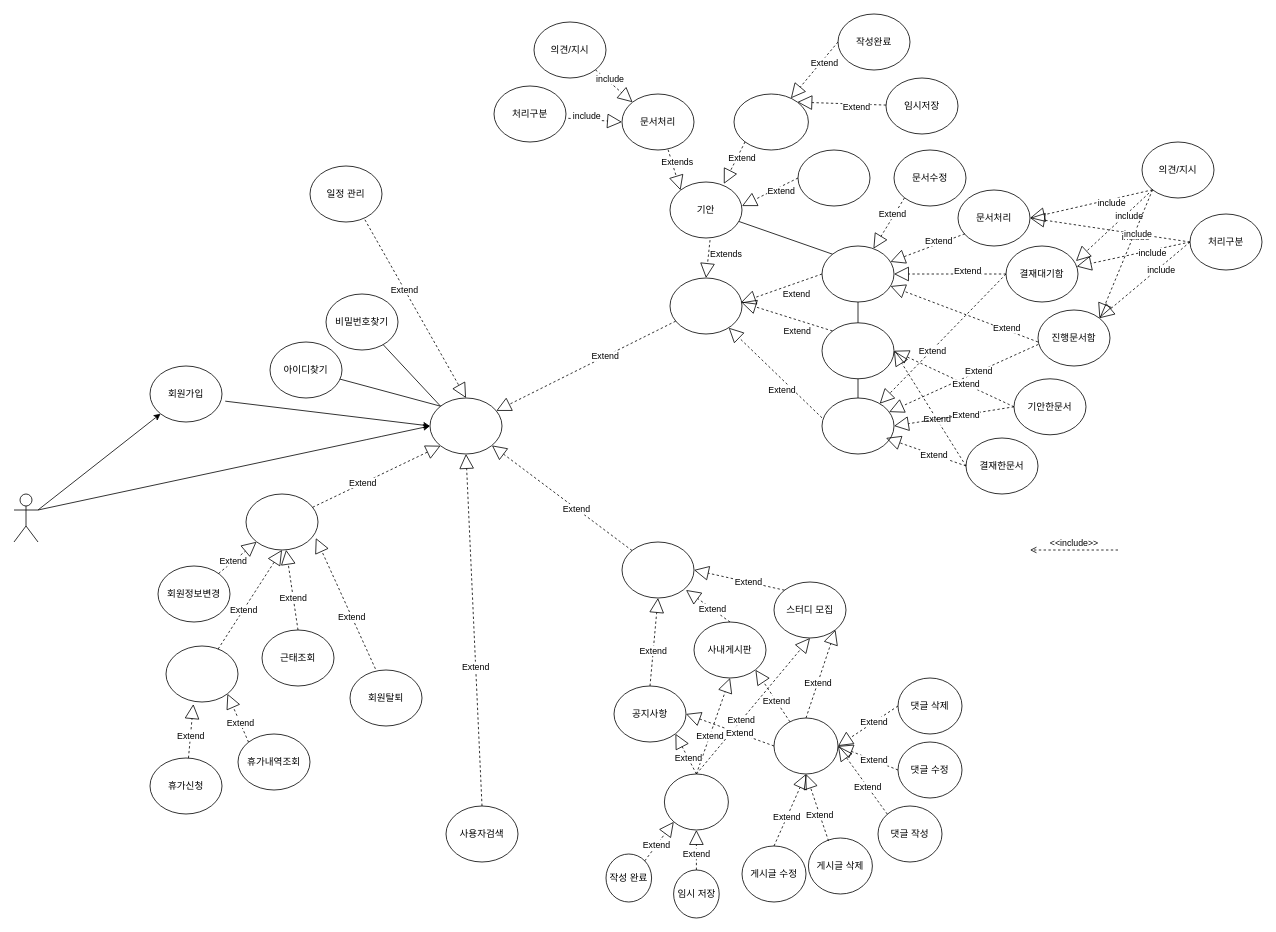
This 1276x932 diagram has some shape labels left out. The centre of each missing label's shape, as x and y in pixels:
Actor: point (25, 517)
게시글 업로드: point (696, 801)
게시글 조회: point (805, 745)
결재: point (857, 273)
로그인: point (465, 425)
마이페이지: point (281, 521)
문서등록대장: point (857, 425)
문서작성: point (770, 121)
완료문서: point (857, 350)
임시저장함: point (833, 177)
전자 문서: point (705, 305)
커뮤니티: point (657, 569)
휴가: point (201, 673)
